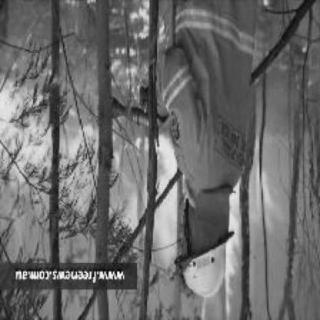Fire: (5, 95, 177, 283), (229, 188, 289, 308)
